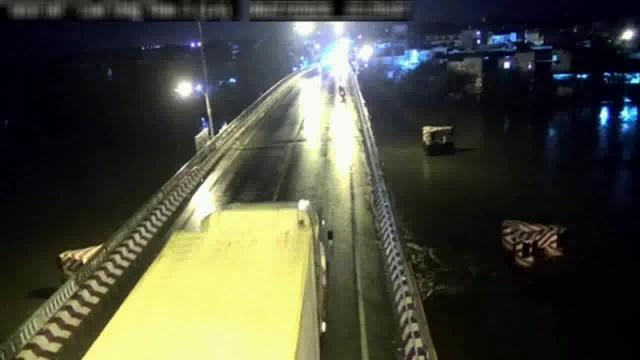Bike: (338, 85, 347, 101)
